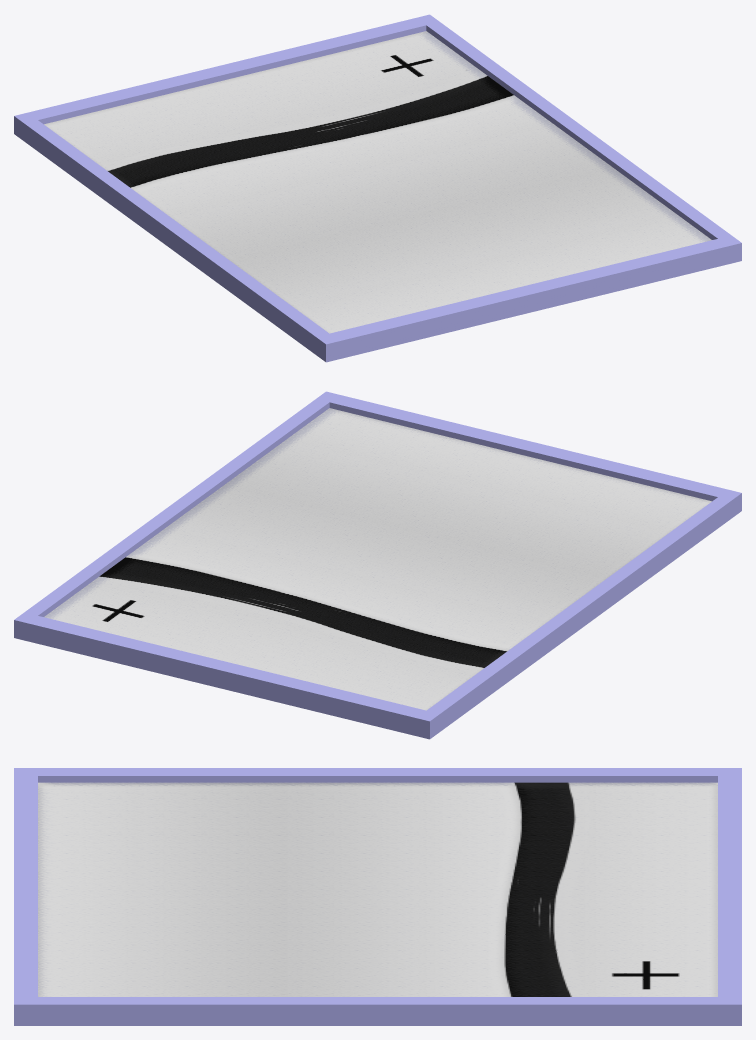
Rendered from newCard.fbx.
3 views of the same model, one above another, from view 1: azimuth 30°, elevation 25°; view 2: azimuth 150°, elevation 25°; view 3: azimuth 270°, elevation 25° (orthographic). The views are drawn at different scales.
Visible parts, largest first — view 1: Card, Border; view 2: Card, Border; view 3: Card, Border.
Part boxes in pixels (<box>): Card: <box>44,31,711,333</box>; Border: <box>14,14,741,362</box>; Card: <box>44,408,711,710</box>; Border: <box>14,391,741,739</box>; Card: <box>38,782,717,996</box>; Border: <box>14,768,741,1025</box>.
Bounding box in the file's own units: 200 × 8.3 × 260.
Materials: 2 (1 with a texture image).
